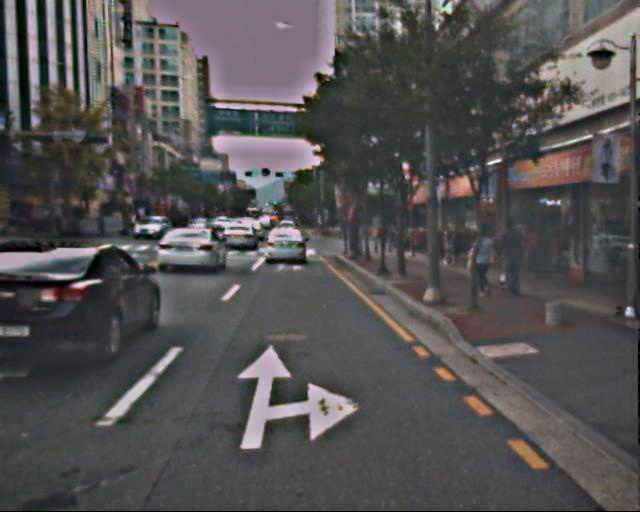person: (491, 215, 526, 300), (466, 227, 497, 303)
